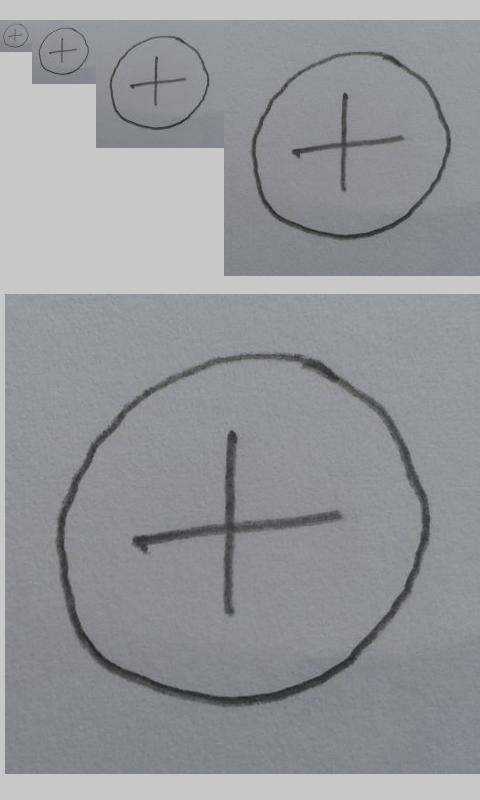button: (54, 351, 433, 707), (250, 50, 452, 240), (109, 35, 211, 130), (38, 27, 90, 75), (2, 23, 29, 48)
